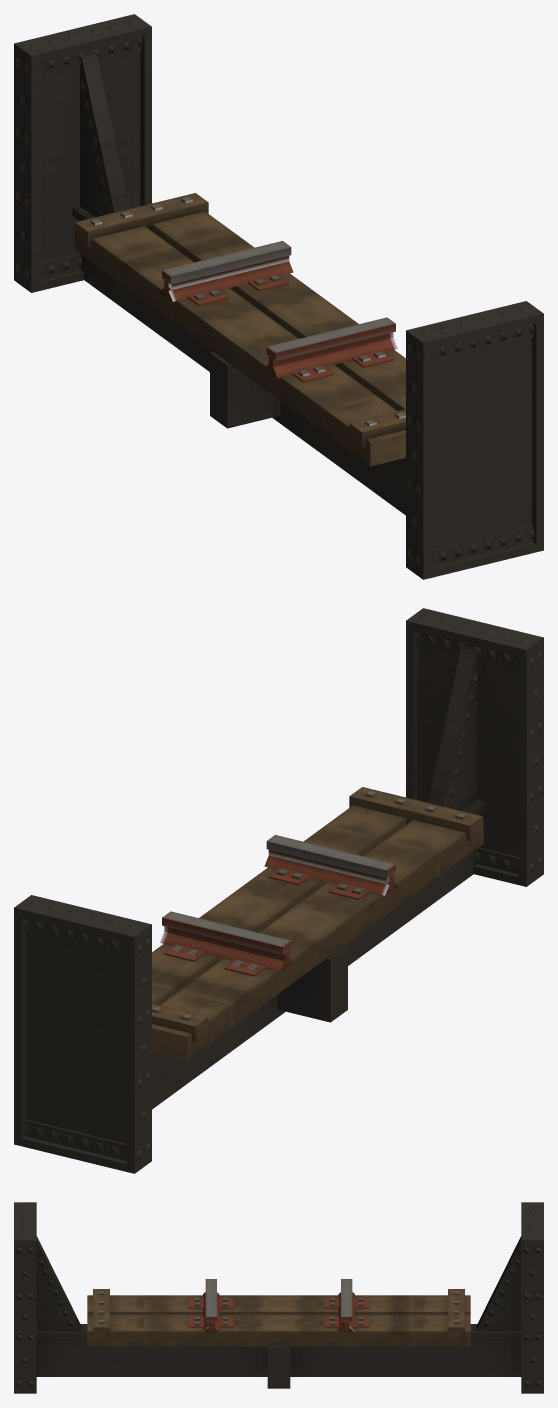
Rendered from texel_bridge2.obj.
3 views of the same model, one above another, from view 1: azimuth 30°, elevation 25°; view 2: azimuth 150°, elevation 25°; view 3: azimuth 270°, elevation 25° (orthographic). The views are drawn at different scales.
Parts seen in each view (by area): view 1: RAIL_BASE.001_Plane.001, RAIL_BASE_Cube.001, RAIL_RIGHT_Cube_Cube.001, RAIL_LEFT_Cube_Cube.001; view 2: RAIL_BASE.001_Plane.001, RAIL_BASE_Cube.001, RAIL_LEFT_Cube_Cube.001, RAIL_RIGHT_Cube_Cube.001; view 3: RAIL_BASE.001_Plane.001, RAIL_BASE_Cube.001, RAIL_LEFT_Cube_Cube.001, RAIL_RIGHT_Cube_Cube.001.
Part boxes in pixels (left/top/right/bottom): RAIL_BASE.001_Plane.001: left=14, top=14, right=543, bottom=579; RAIL_BASE_Cube.001: left=74, top=193, right=405, bottom=466; RAIL_RIGHT_Cube_Cube.001: left=160, top=241, right=293, bottom=301; RAIL_LEFT_Cube_Cube.001: left=264, top=317, right=397, bottom=378; RAIL_BASE.001_Plane.001: left=14, top=608, right=543, bottom=1173; RAIL_BASE_Cube.001: left=152, top=787, right=483, bottom=1060; RAIL_LEFT_Cube_Cube.001: left=264, top=835, right=397, bottom=895; RAIL_RIGHT_Cube_Cube.001: left=160, top=911, right=293, bottom=972; RAIL_BASE.001_Plane.001: left=14, top=1202, right=543, bottom=1393; RAIL_BASE_Cube.001: left=87, top=1289, right=470, bottom=1346; RAIL_LEFT_Cube_Cube.001: left=203, top=1279, right=219, bottom=1332; RAIL_RIGHT_Cube_Cube.001: left=338, top=1279, right=354, bottom=1332.
Size of the model in its own units: 1.04 by 1.91 by 5.88.
Materials: 2 (2 with a texture image).
